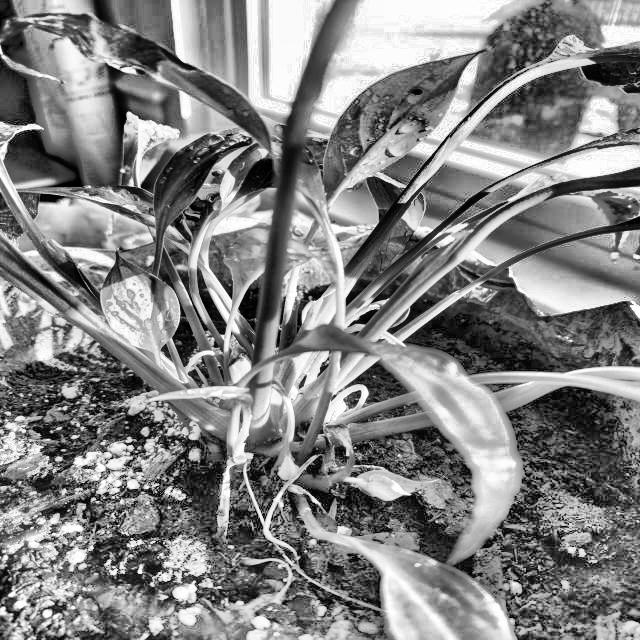plants: (5, 0, 639, 639), (368, 363, 558, 570), (351, 175, 441, 292), (568, 166, 640, 277)
